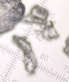microplastic: (11, 34, 39, 74), (1, 1, 26, 35), (21, 3, 50, 24), (32, 20, 59, 41), (62, 34, 69, 59)
